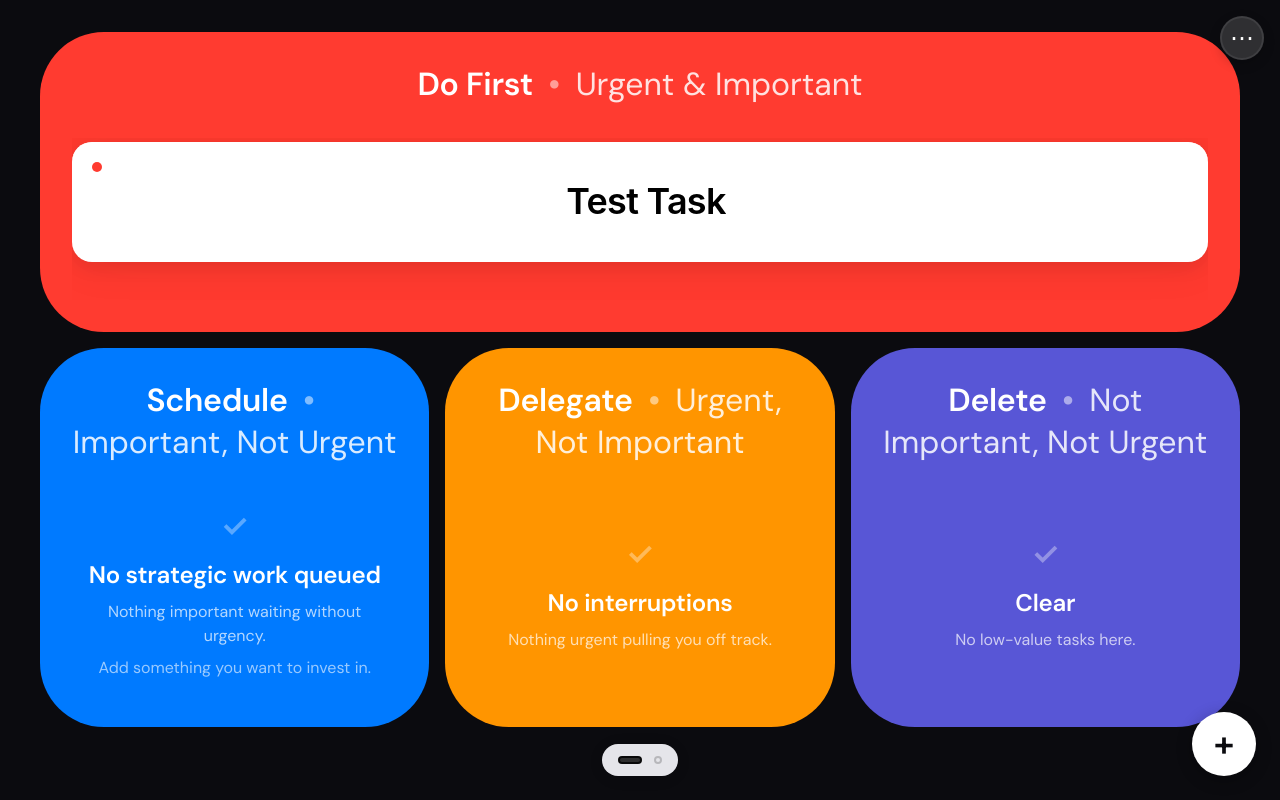
Test case: Right Now View › page dots navigation switches between Matrix and Right Now views
This screenshot has width=1280, height=800.
expect the element with test id "quadrant-Q1" is shown: met, box [40,32,1240,332]
expect the element with test id "page-dots" is shown: met, box [602,744,678,776]
Switch to Right Now view
What coordinates should you click on to do the following:
click the button with test id "page-dot-rightNow"
I would click on:
 (658, 760)
Its box is [654,756,662,764].
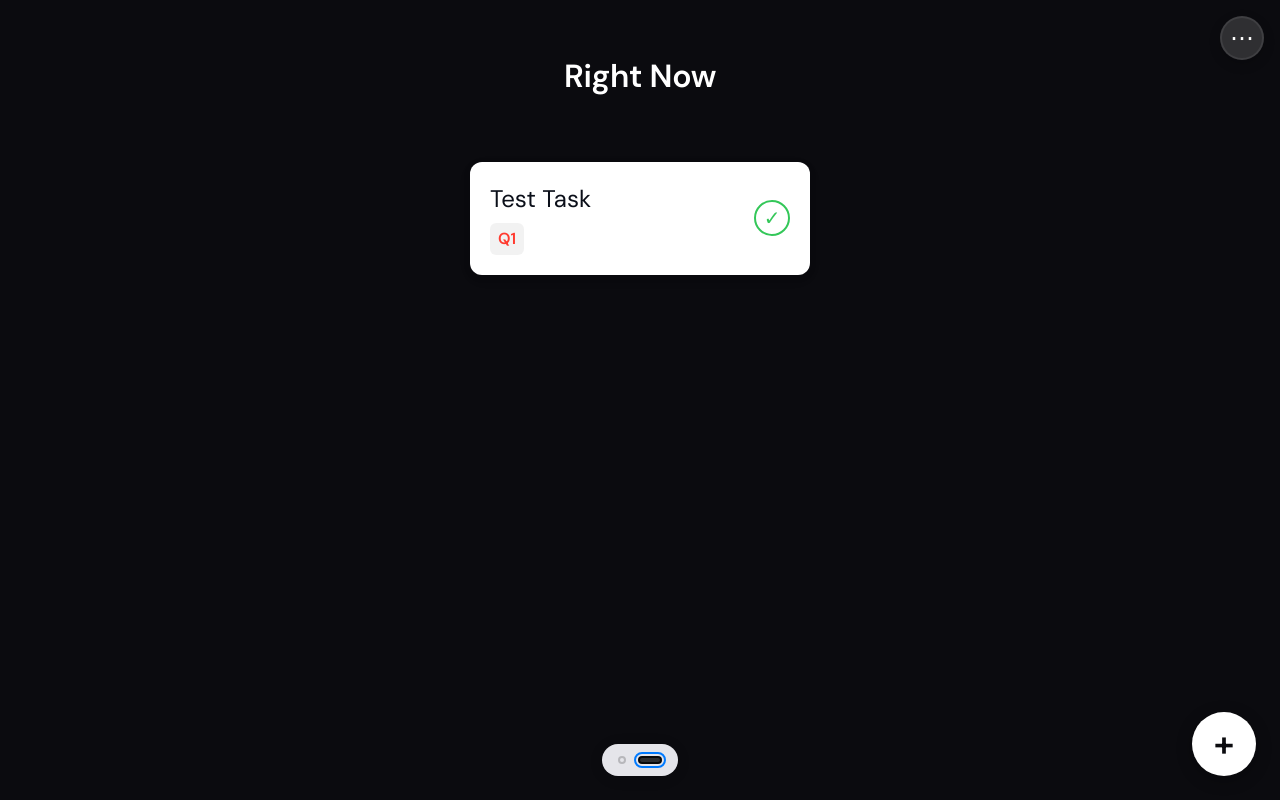
expect the element with test id "right-now-view" is shown: met, box [446,32,834,299]
expect the element with test id "quadrant-Q1" is gone: met
Switch back to Matrix view
What coordinates should you click on to do the following:
click the button with test id "page-dot-matrix"
I would click on:
 (622, 760)
Its box is [618,756,626,764].
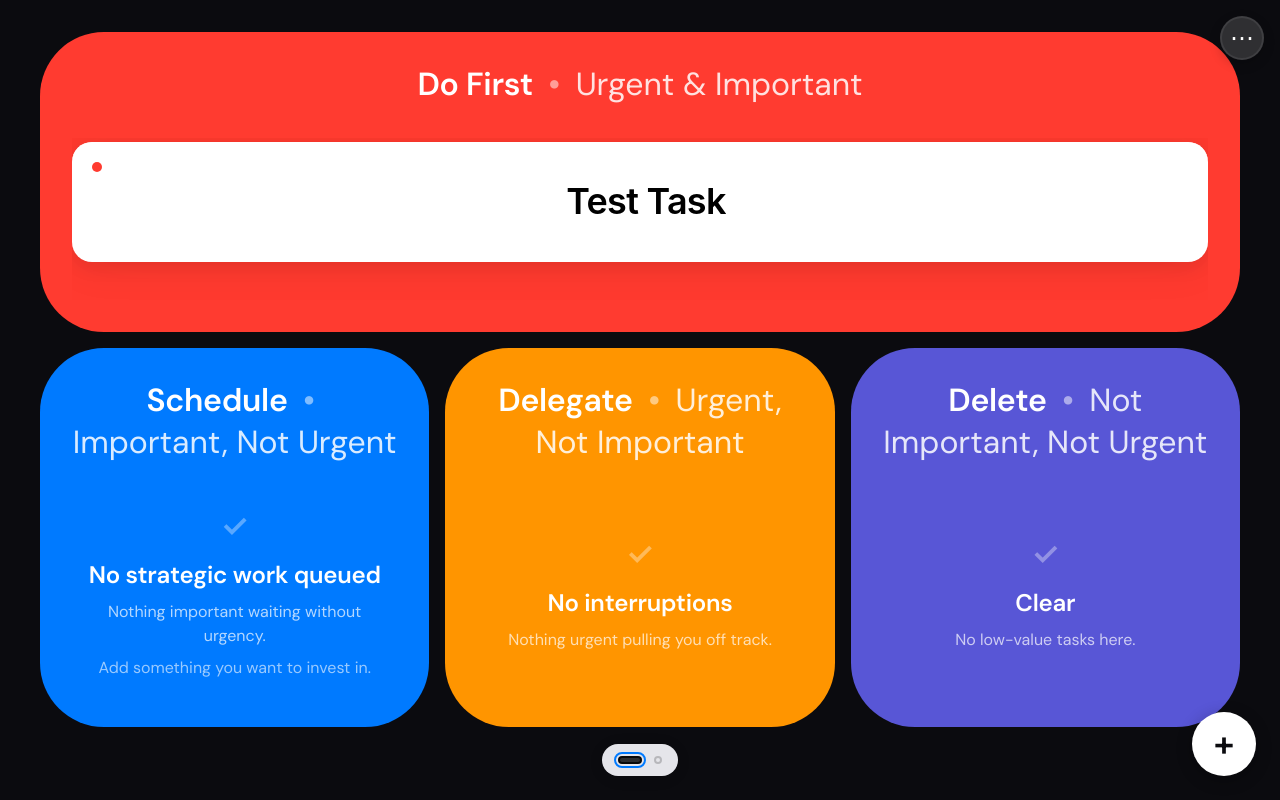
expect the element with test id "quadrant-Q1" is shown: met, box [40,32,1240,332]
expect the element with test id "right-now-view" is gone: met
